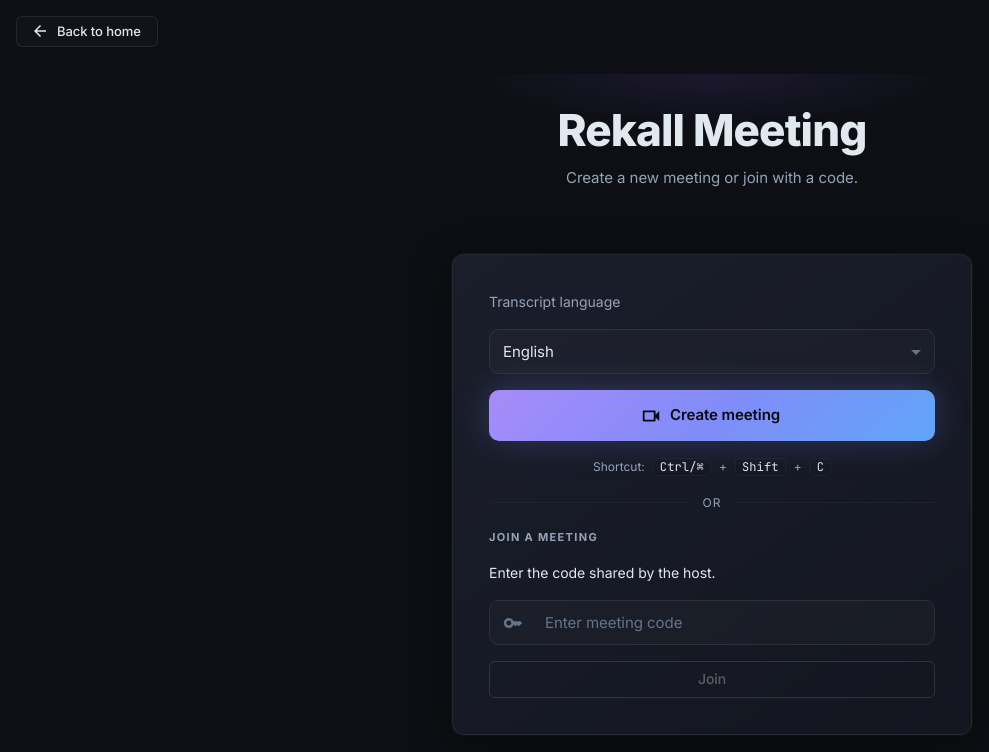
Test: NewMeetingPage — Rekall layout › Join button is enabled when the code reaches the minimum length
Step 1. Type "abcdef" into the field labelled "Enter meeting code" → (733, 623), box [531,600,935,645]
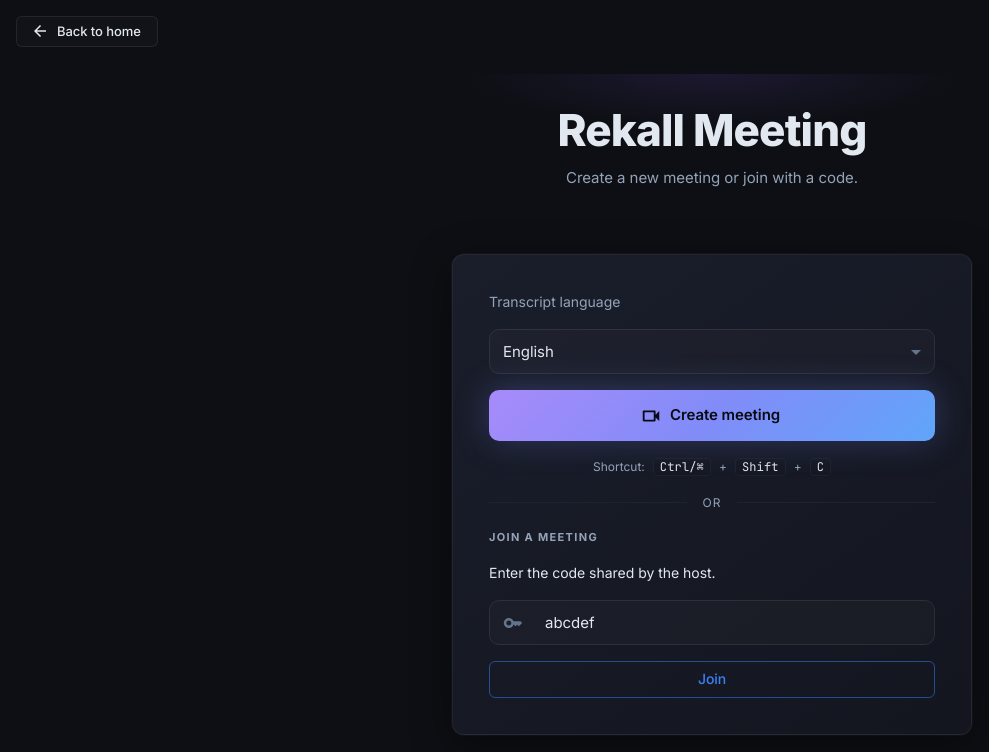
Expected: the button "Join" is enabled, [489,661,935,698]
